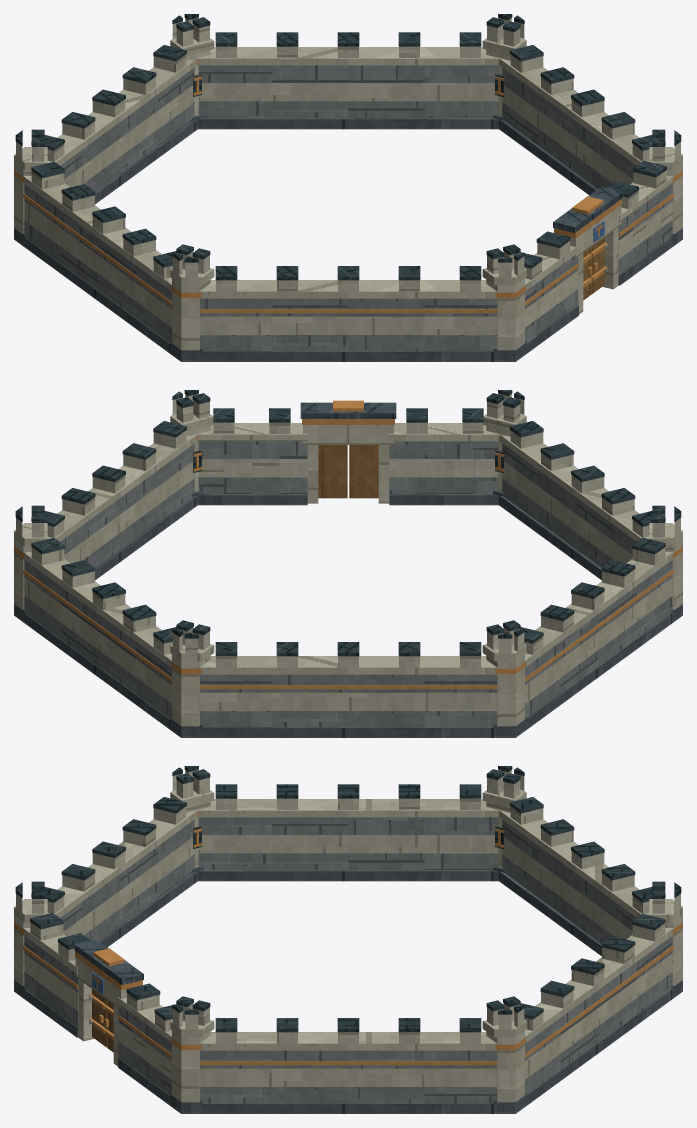
The model's file is dwarf_walls_level_2_hex_v1.glb.
3 renders of one model, top to bottom at view 1: azimuth 30°, elevation 25°; view 2: azimuth 150°, elevation 25°; view 3: azimuth 270°, elevation 25°, orthographic.
Visible parts, largest first — view 1: Dwarf_Walls_Level_2_Hex_V1_Architecture; view 2: Dwarf_Walls_Level_2_Hex_V1_Architecture; view 3: Dwarf_Walls_Level_2_Hex_V1_Architecture.
Boxes of the visible parts, x1=… form: Dwarf_Walls_Level_2_Hex_V1_Architecture: x1=14, y1=14, x2=682, y2=361; Dwarf_Walls_Level_2_Hex_V1_Architecture: x1=14, y1=390, x2=682, y2=737; Dwarf_Walls_Level_2_Hex_V1_Architecture: x1=14, y1=766, x2=682, y2=1113.
Size of the model in its own units: 1.71 by 0.335 by 1.97.
Materials: 1 (1 with a texture image).
